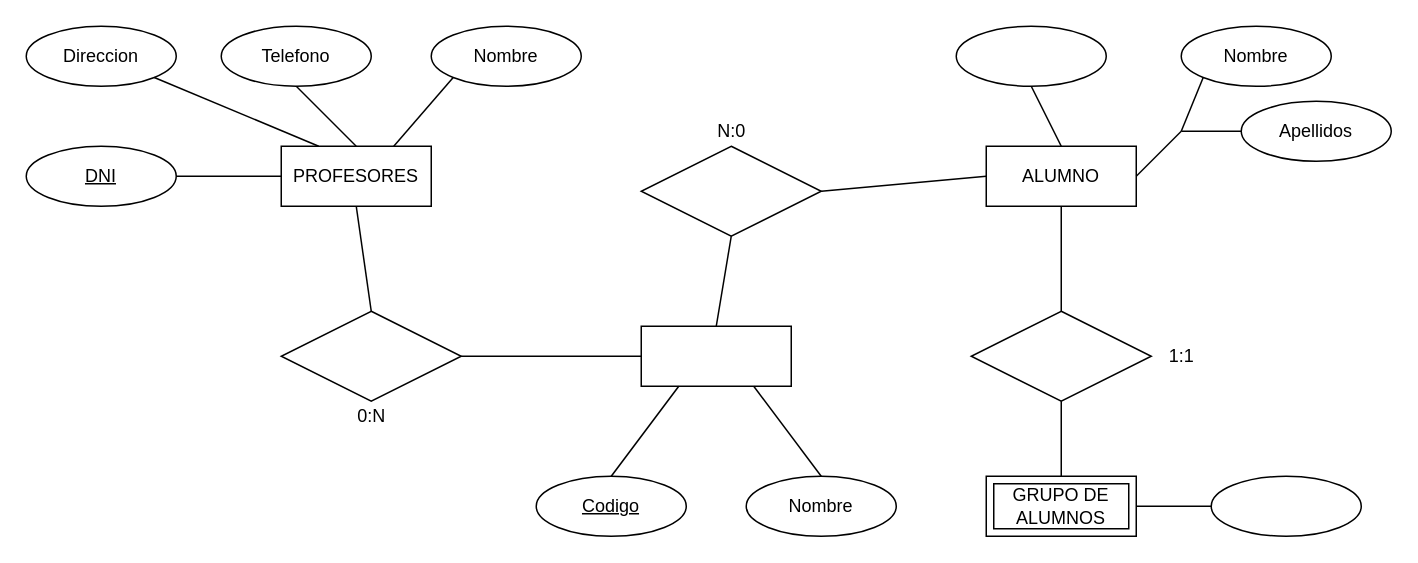
Image size: 1418x563. Some labels were removed from this diagram. Here are the shapes that lost their labels. From the top down, the box of each, then its label:
(955, 25, 1106, 86): Fecha de nacimiento
(640, 145, 821, 236): Matriculado
(280, 310, 461, 401): Imparten
(640, 325, 791, 386): MODULOS
(970, 310, 1151, 401): Agrupacion
(1210, 475, 1361, 536): Delegado
